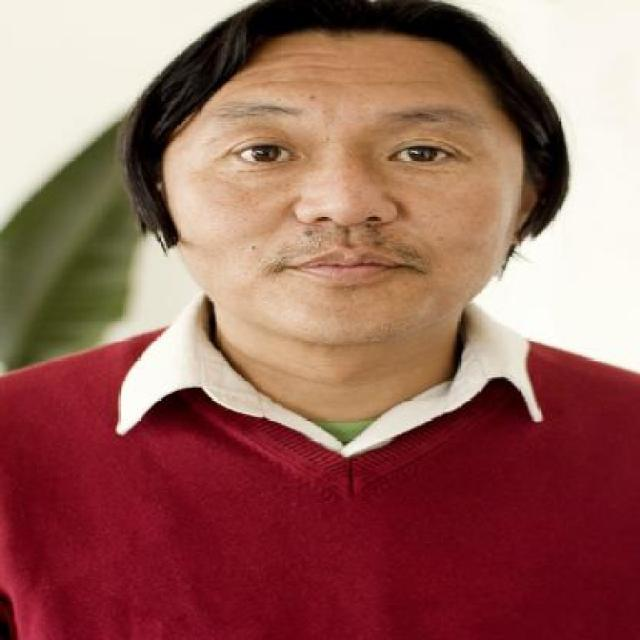closed-mouth: (276, 243, 412, 286)
